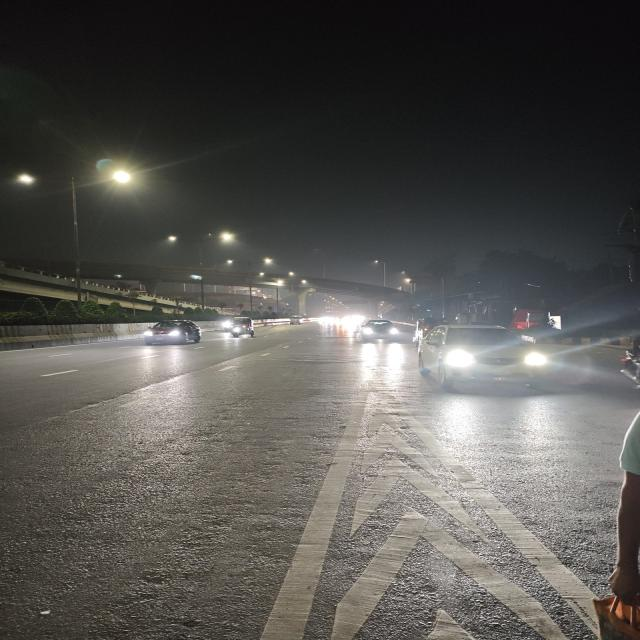car: (398, 318, 550, 394), (132, 312, 208, 352), (356, 312, 410, 348)
cng: (218, 314, 264, 341)
